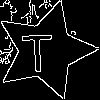T: (20, 25, 54, 73)
